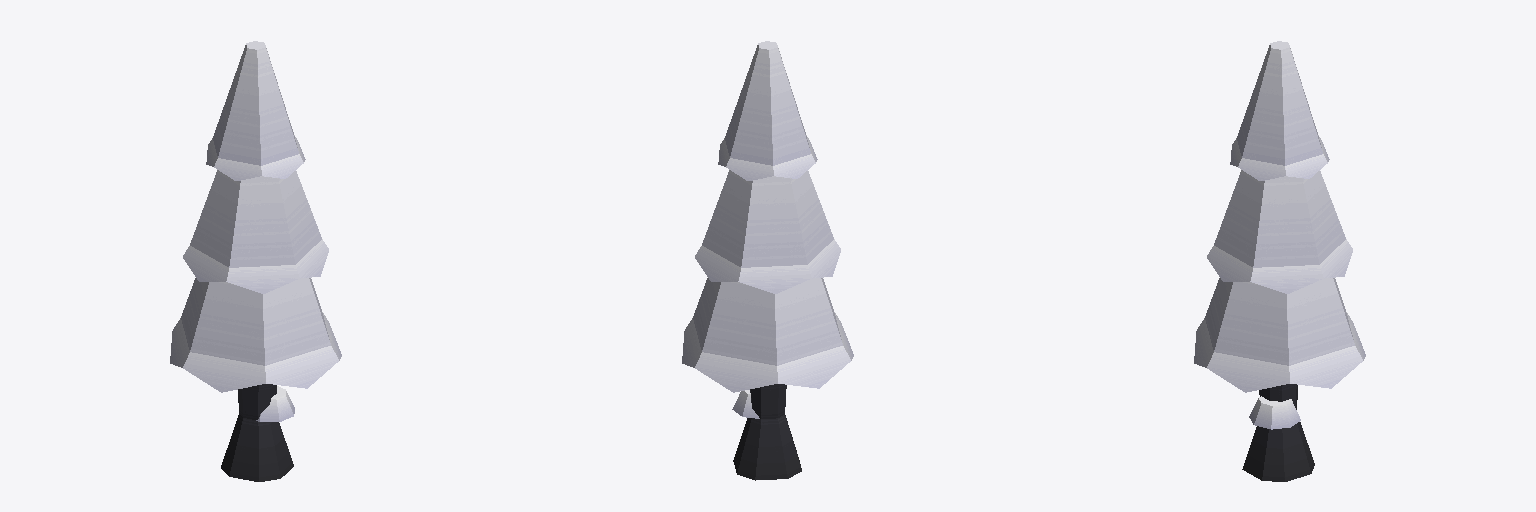
3 views of the same model, side by side, from view 1: azimuth 30°, elevation 25°; view 2: azimuth 150°, elevation 25°; view 3: azimuth 270°, elevation 25° (orthographic).
Visible parts, largest first — view 1: tree.018; view 2: tree.018; view 3: tree.018.
Boxes of the visible parts, x1,y1,x2,y2 form: tree.018: [170, 41, 341, 481]; tree.018: [682, 41, 853, 480]; tree.018: [1194, 41, 1365, 481].
Size of the model in its own units: 1.35 by 3.47 by 1.29.
1 materials, 1 textured.